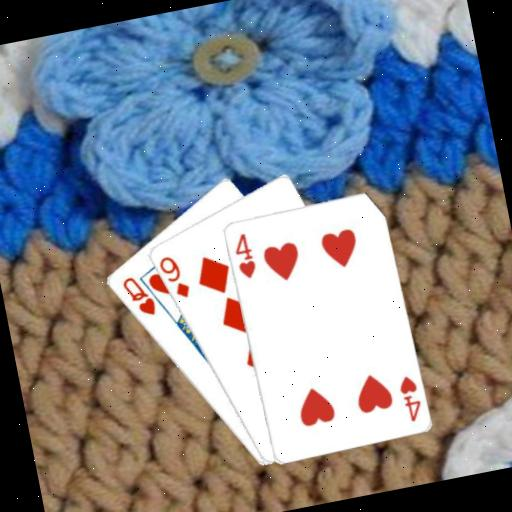4H: (394, 372, 425, 425), (229, 230, 259, 282)
9D: (154, 250, 193, 303)
QH: (118, 270, 159, 322)
